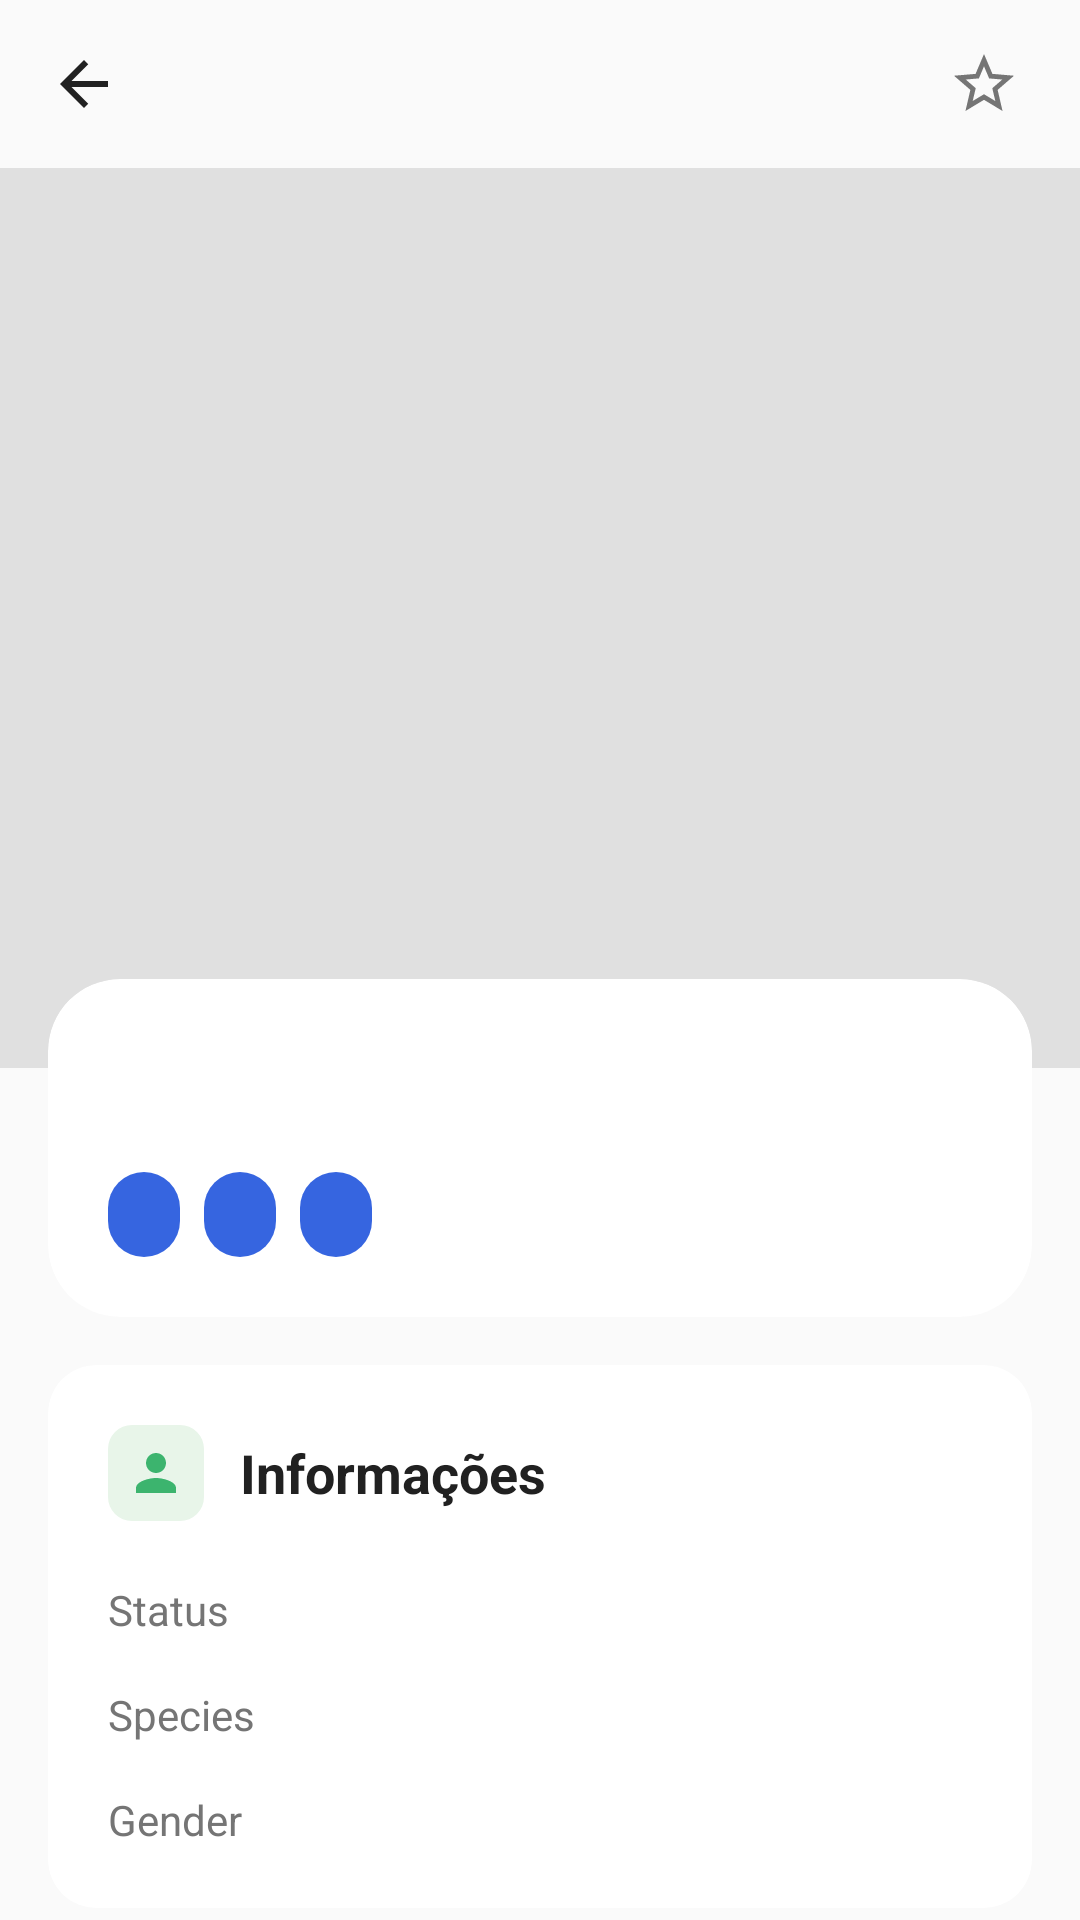

Icons on this 1080w x 1920h Android screen, each with its box as BBox(x1, y1, x2, y2):
back: BBox(60, 60, 108, 108)
star: BBox(954, 54, 1014, 111)
